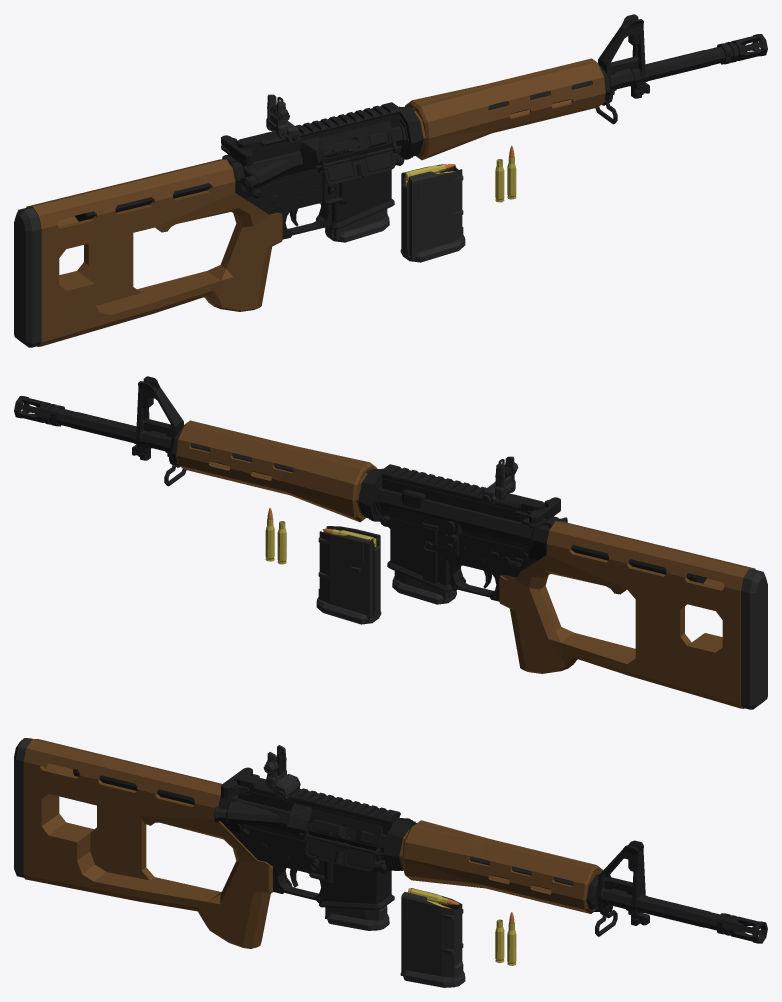
The model's file is low-poly_adar_2-15.glb.
3 renders of one model, top to bottom at view 1: azimuth 30°, elevation 25°; view 2: azimuth 150°, elevation 25°; view 3: azimuth 330°, elevation 25°, orthographic.
Visible parts, largest first — view 1: adar215 stock_12, adar215 handguard_13, adar215 upper_0, adar215 lower_3, adar215 16in barrel_11, 55645 ar15 10rnd mag (pmag)_15, adar215 dust cover_9, 55645 ar15 10rnd mag empty (pmag)_16, adar215 rear iron sight_14, adar215 flash hider_10, adar215 bolt_5, adar215 charging handle_8; view 2: adar215 stock_12, adar215 handguard_13, adar215 upper_0, adar215 lower_3, adar215 16in barrel_11, 55645 ar15 10rnd mag (pmag)_15, 55645 ar15 10rnd mag empty (pmag)_16, adar215 rear iron sight_14, adar215 flash hider_10, adar215 charging handle_8; view 3: adar215 stock_12, adar215 handguard_13, adar215 upper_0, adar215 lower_3, adar215 16in barrel_11, 55645 ar15 10rnd mag (pmag)_15, adar215 dust cover_9, 55645 ar15 10rnd mag empty (pmag)_16, adar215 rear iron sight_14, adar215 flash hider_10, adar215 bolt_5, adar215 charging handle_8.
Part boxes in pixels (<box>): adar215 stock_12: <box>14,159,282,347</box>; adar215 handguard_13: <box>404,58,606,160</box>; adar215 upper_0: <box>237,102,403,192</box>; adar215 lower_3: <box>222,153,404,239</box>; adar215 16in barrel_11: <box>399,14,725,159</box>; 55645 ar15 10rnd mag (pmag)_15: <box>400,164,465,262</box>; adar215 dust cover_9: <box>315,145,401,184</box>; 55645 ar15 10rnd mag empty (pmag)_16: <box>325,209,389,242</box>; adar215 rear iron sight_14: <box>266,94,299,142</box>; adar215 flash hider_10: <box>717,34,767,64</box>; adar215 bolt_5: <box>323,132,388,157</box>; adar215 charging handle_8: <box>221,135,256,166</box>; adar215 stock_12: <box>499,521,767,709</box>; adar215 handguard_13: <box>175,420,377,522</box>; adar215 upper_0: <box>378,464,567,549</box>; adar215 lower_3: <box>380,515,559,601</box>; adar215 16in barrel_11: <box>56,376,382,521</box>; 55645 ar15 10rnd mag (pmag)_15: <box>316,526,381,624</box>; 55645 ar15 10rnd mag empty (pmag)_16: <box>392,571,456,604</box>; adar215 rear iron sight_14: <box>481,456,518,504</box>; adar215 flash hider_10: <box>14,396,64,426</box>; adar215 charging handle_8: <box>515,497,560,528</box>; adar215 stock_12: <box>14,738,272,948</box>; adar215 handguard_13: <box>399,820,603,913</box>; adar215 upper_0: <box>214,774,400,860</box>; adar215 lower_3: <box>218,796,394,910</box>; adar215 16in barrel_11: <box>383,818,720,936</box>; 55645 ar15 10rnd mag (pmag)_15: <box>400,888,465,987</box>; adar215 dust cover_9: <box>299,833,383,871</box>; 55645 ar15 10rnd mag empty (pmag)_16: <box>325,905,389,930</box>; adar215 rear iron sight_14: <box>263,745,300,799</box>; adar215 flash hider_10: <box>716,913,767,943</box>; adar215 bolt_5: <box>310,819,376,844</box>; adar215 charging handle_8: <box>221,767,259,798</box>.
Bounding box in the file's own units: 8.59 × 2.24 × 0.6643.
